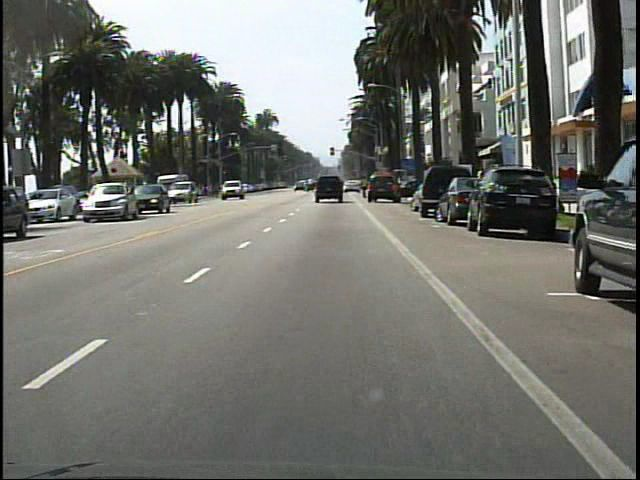person: (359, 174, 370, 202)
